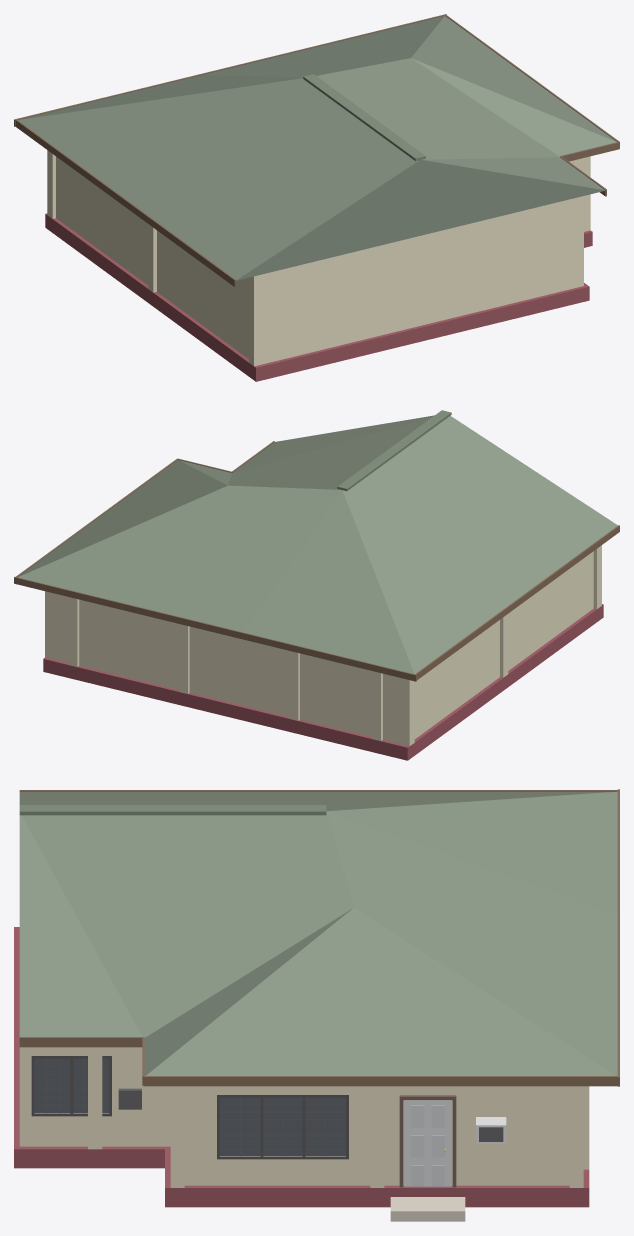
The model's file is lares_agricultural_supplies_storage.glb.
The picture shows the model from 3 angles, top to bottom: view 1: azimuth 30°, elevation 25°; view 2: azimuth 150°, elevation 25°; view 3: azimuth 270°, elevation 25°; orthographic projection. The views are drawn at different scales.
Visible parts, largest first — view 1: lares_agricultural_supplies_storage; view 2: lares_agricultural_supplies_storage; view 3: lares_agricultural_supplies_storage.
Part boxes in pixels (x1,y1,x2,y2): lares_agricultural_supplies_storage: [14, 14, 619, 381]; lares_agricultural_supplies_storage: [14, 410, 619, 760]; lares_agricultural_supplies_storage: [14, 789, 619, 1221].
Bounding box in the file's own units: 14.62 × 5.87 × 12.96.
